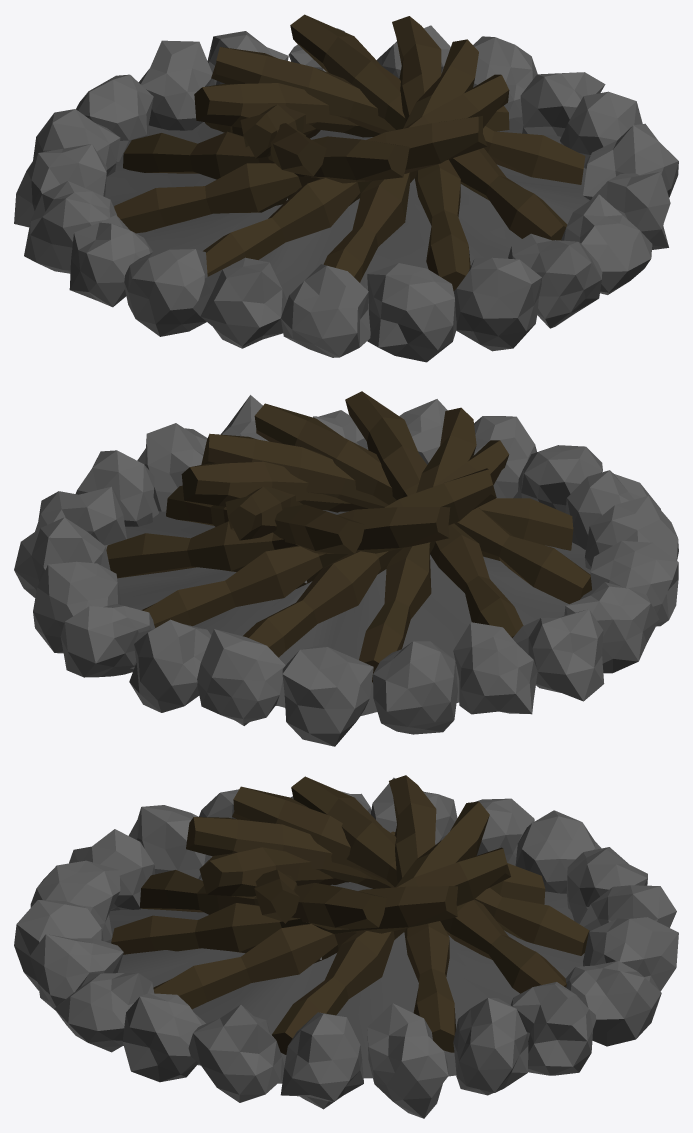
Rendered from firebase.fbx.
3 renders of one model, top to bottom at view 1: azimuth 30°, elevation 25°; view 2: azimuth 150°, elevation 25°; view 3: azimuth 270°, elevation 25°, orthographic.
Parts seen in each view (by area): view 1: Rocks, inside, Plane|Cylinder|Dupli|8, Plane|Cylinder|Dupli|2, Plane|Cylinder|Dupli|3, Plane|Cylinder|Dupli|9, Plane|Cylinder|Dupli|7, Plane|Cylinder|Dupli|1, Plane|Cylinder|Dupli|, Plane|Cylinder|Dupli|4, Plane|Cylinder|Dupli|6, Plane|Cylinder|Dupli|5; view 2: Rocks, inside, Plane|Cylinder|Dupli|9, Plane|Cylinder|Dupli|4, Plane|Cylinder|Dupli|5, Plane|Cylinder|Dupli|8, Plane|Cylinder|Dupli|, Plane|Cylinder|Dupli|7, Plane|Cylinder|Dupli|6, Plane|Cylinder|Dupli|3, Plane|Cylinder|Dupli|1, Plane|Cylinder|Dupli|2; view 3: Rocks, inside, Plane|Cylinder|Dupli|2, Plane|Cylinder|Dupli|1, Plane|Cylinder|Dupli|5, Plane|Cylinder|Dupli|3, Plane|Cylinder|Dupli|6, Plane|Cylinder|Dupli|4, Plane|Cylinder|Dupli|7, Plane|Cylinder|Dupli|, Plane|Cylinder|Dupli|8, Plane|Cylinder|Dupli|9.
Boxes of the visible parts, bbox=[...] form: Rocks: bbox=[14, 25, 678, 362]; inside: bbox=[105, 117, 588, 312]; Plane|Cylinder|Dupli|8: bbox=[114, 116, 487, 233]; Plane|Cylinder|Dupli|2: bbox=[290, 14, 567, 240]; Plane|Cylinder|Dupli|3: bbox=[211, 47, 585, 184]; Plane|Cylinder|Dupli|9: bbox=[203, 74, 509, 276]; Plane|Cylinder|Dupli|7: bbox=[123, 131, 409, 183]; Plane|Cylinder|Dupli|1: bbox=[392, 16, 470, 290]; Plane|Cylinder|Dupli|: bbox=[323, 39, 478, 282]; Plane|Cylinder|Dupli|4: bbox=[194, 83, 509, 137]; Plane|Cylinder|Dupli|6: bbox=[205, 122, 326, 176]; Plane|Cylinder|Dupli|5: bbox=[240, 104, 320, 158]; Rocks: bbox=[14, 395, 678, 746]; inside: bbox=[117, 510, 590, 716]; Plane|Cylinder|Dupli|9: bbox=[254, 403, 591, 604]; Plane|Cylinder|Dupli|4: bbox=[106, 507, 450, 578]; Plane|Cylinder|Dupli|5: bbox=[141, 468, 496, 627]; Plane|Cylinder|Dupli|8: bbox=[345, 391, 523, 637]; Plane|Cylinder|Dupli|: bbox=[201, 433, 573, 550]; Plane|Cylinder|Dupli|7: bbox=[359, 407, 476, 682]; Plane|Cylinder|Dupli|6: bbox=[243, 440, 509, 657]; Plane|Cylinder|Dupli|3: bbox=[166, 485, 365, 553]; Plane|Cylinder|Dupli|1: bbox=[181, 461, 367, 512]; Plane|Cylinder|Dupli|2: bbox=[225, 486, 302, 540]; Rocks: bbox=[14, 777, 678, 1118]; inside: bbox=[105, 878, 584, 1083]; Plane|Cylinder|Dupli|2: bbox=[153, 847, 510, 1009]; Plane|Cylinder|Dupli|1: bbox=[111, 886, 457, 954]; Plane|Cylinder|Dupli|5: bbox=[291, 776, 566, 993]; Plane|Cylinder|Dupli|3: bbox=[272, 801, 489, 1054]; Plane|Cylinder|Dupli|6: bbox=[232, 786, 589, 955]; Plane|Cylinder|Dupli|4: bbox=[389, 775, 455, 1052]; Plane|Cylinder|Dupli|7: bbox=[186, 817, 545, 904]; Plane|Cylinder|Dupli|: bbox=[139, 870, 386, 929]; Plane|Cylinder|Dupli|8: bbox=[199, 831, 395, 896]; Plane|Cylinder|Dupli|9: bbox=[254, 869, 299, 923].
Bounding box in the file's own units: 322 × 90.07 × 329.
